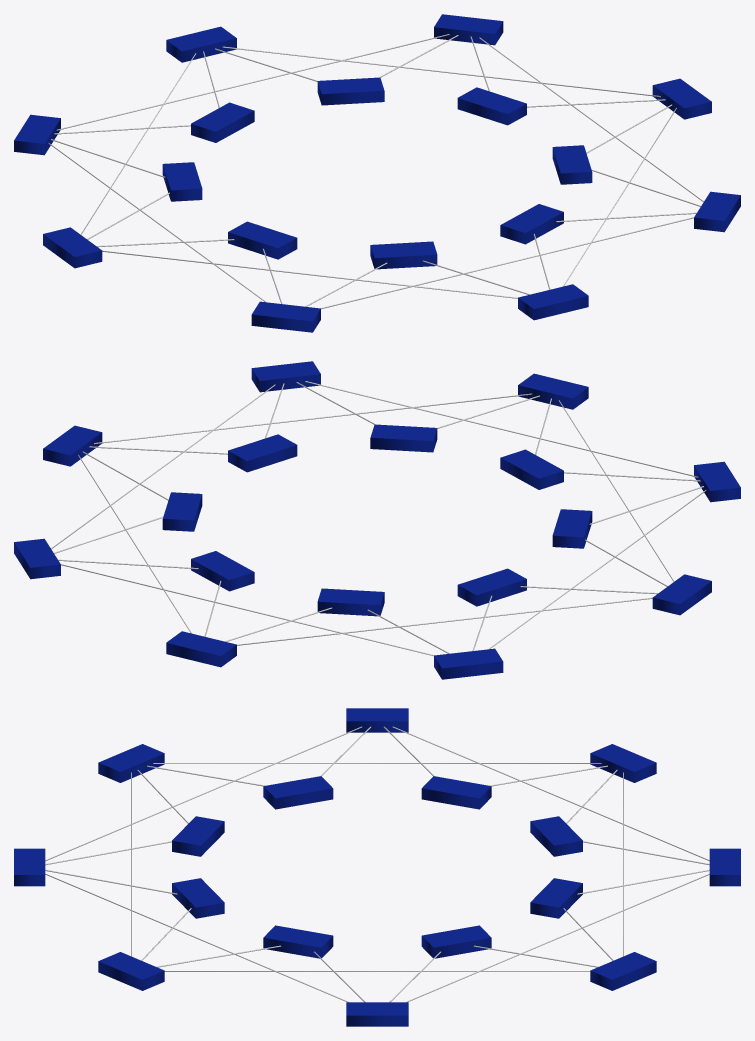
3 renders of one model, top to bottom at view 1: azimuth 30°, elevation 25°; view 2: azimuth 150°, elevation 25°; view 3: azimuth 270°, elevation 25°, orthographic.
Visible parts, largest first — view 1: Model_Pipe.002, Model_Main.001; view 2: Model_Pipe.002, Model_Main.001; view 3: Model_Pipe.002, Model_Main.001.
Boxes of the visible parts, box(x1,y1,x2,y2) form: Model_Pipe.002: box(14, 14, 740, 332); Model_Main.001: box(48, 34, 703, 309); Model_Pipe.002: box(14, 361, 740, 679); Model_Main.001: box(51, 381, 706, 656); Model_Pipe.002: box(14, 708, 740, 1026); Model_Main.001: box(45, 726, 709, 1002).
Size of the model in its own units: 0.4719 by 0.008 by 0.4718.
